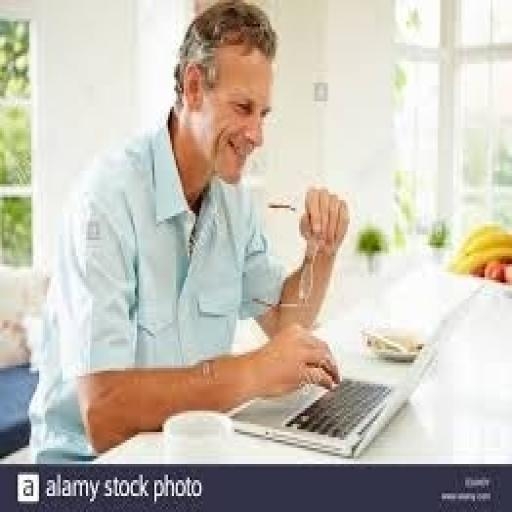using_laptop: (224, 277, 486, 459)
